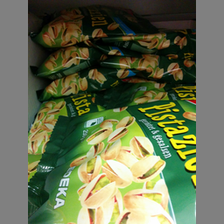nuts: (29, 99, 196, 224), (30, 5, 158, 48)
